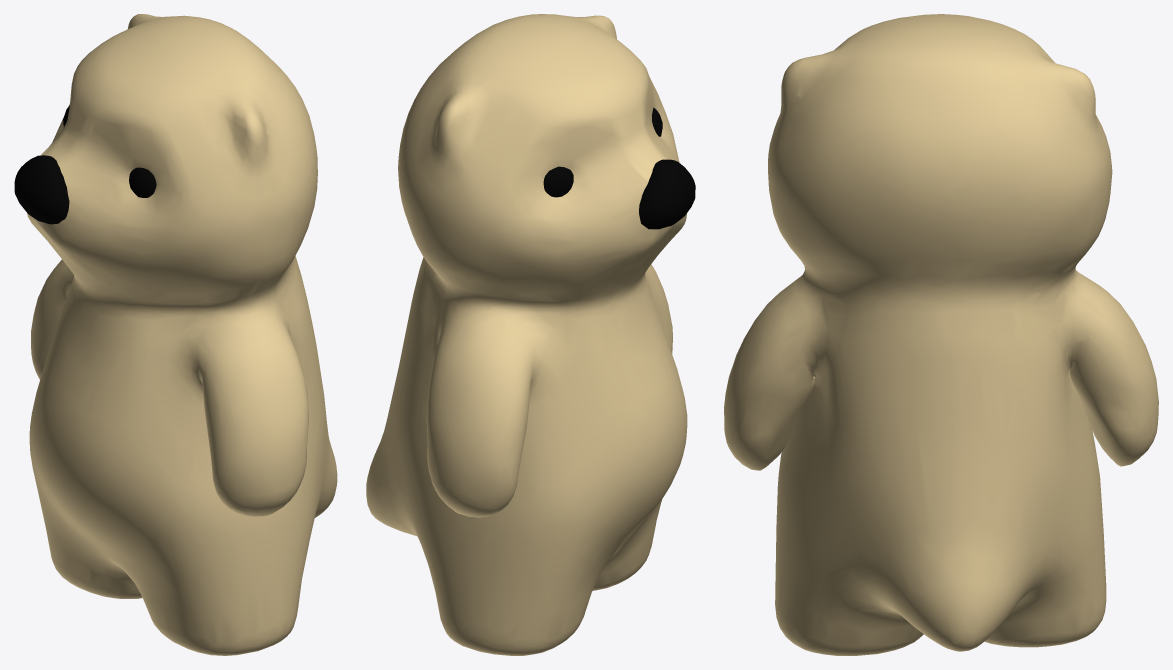
File: otter.fbx
The picture shows the model from 3 angles, left to right: view 1: azimuth 30°, elevation 25°; view 2: azimuth 150°, elevation 25°; view 3: azimuth 270°, elevation 25°; orthographic projection. The views are drawn at different scales.
Parts seen in each view (by area): view 1: body; view 2: body; view 3: body.
Part boxes in pixels (<box>): body: <box>14,14,337,655</box>; body: <box>366,14,695,655</box>; body: <box>724,14,1158,655</box>.
Size of the model in its own units: 247 by 426 by 278.
